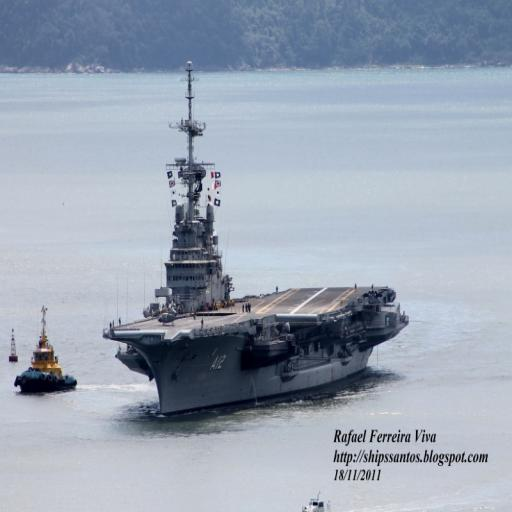Portanaves: (101, 58, 414, 418)
